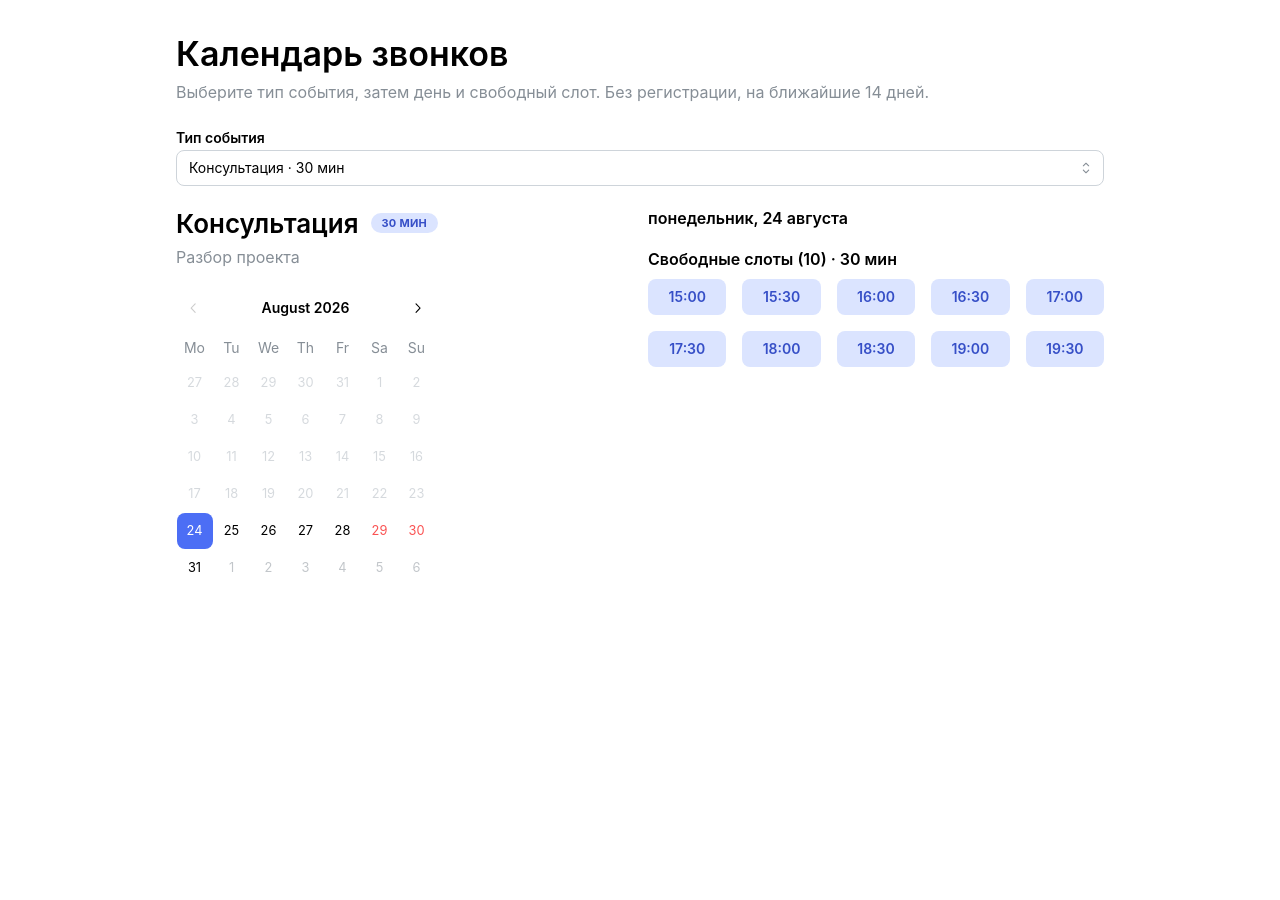
it: BookingPage (гость: тип события → календарь → слоты) › успешное бронирование показывает детали брони
The width and height of the screenshot is (1280, 900).
Expected: the heading "Консультация" is shown, 176,206 -> 358,241
Click the button named "2026-08-25".
click(232, 531)  # box 214,513 -> 250,549
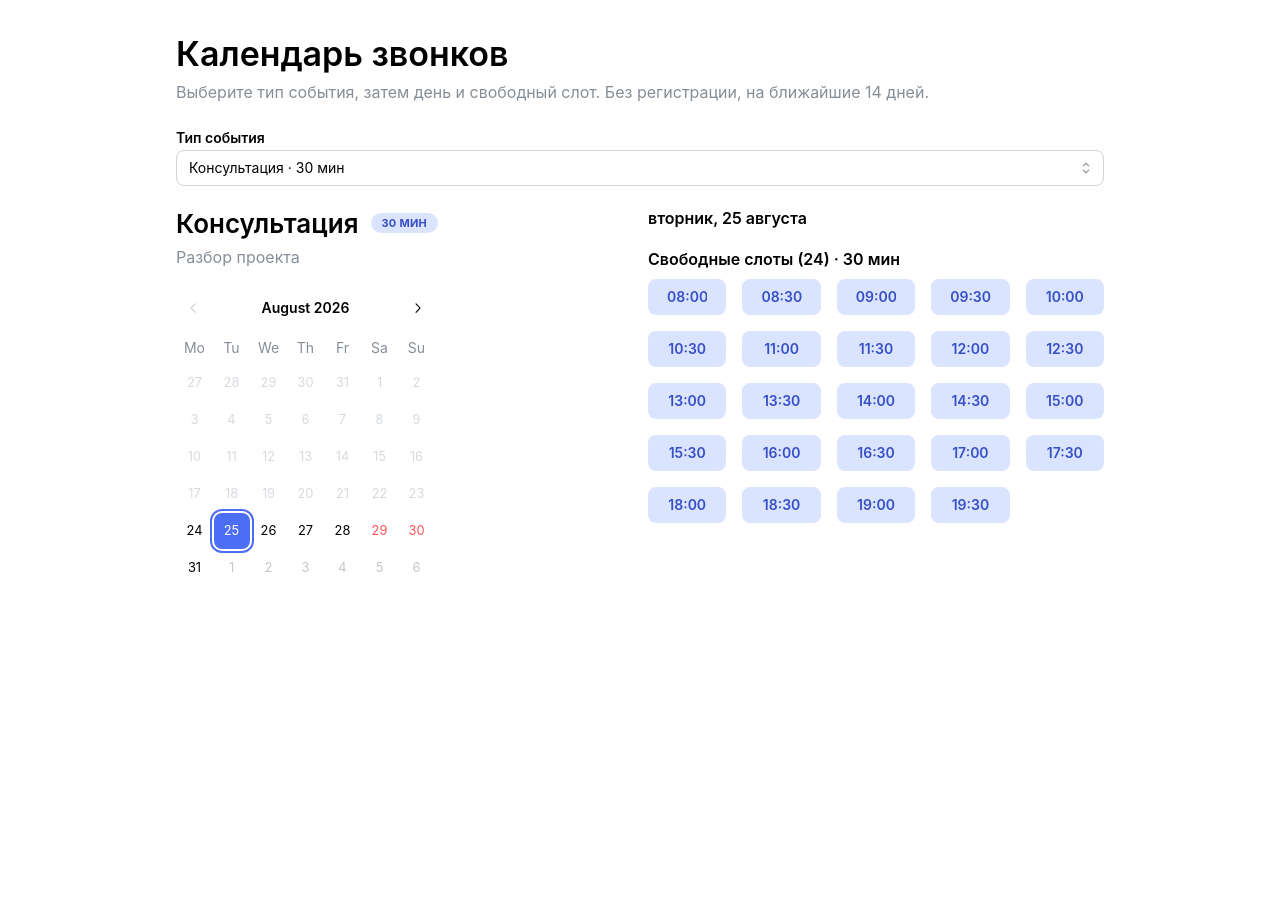
Expected: the text "Свободные слоты (24) · 30 мин" is shown, 648,249 -> 900,269
Click the button "08:00".
click(687, 297)  # box 648,279 -> 726,315
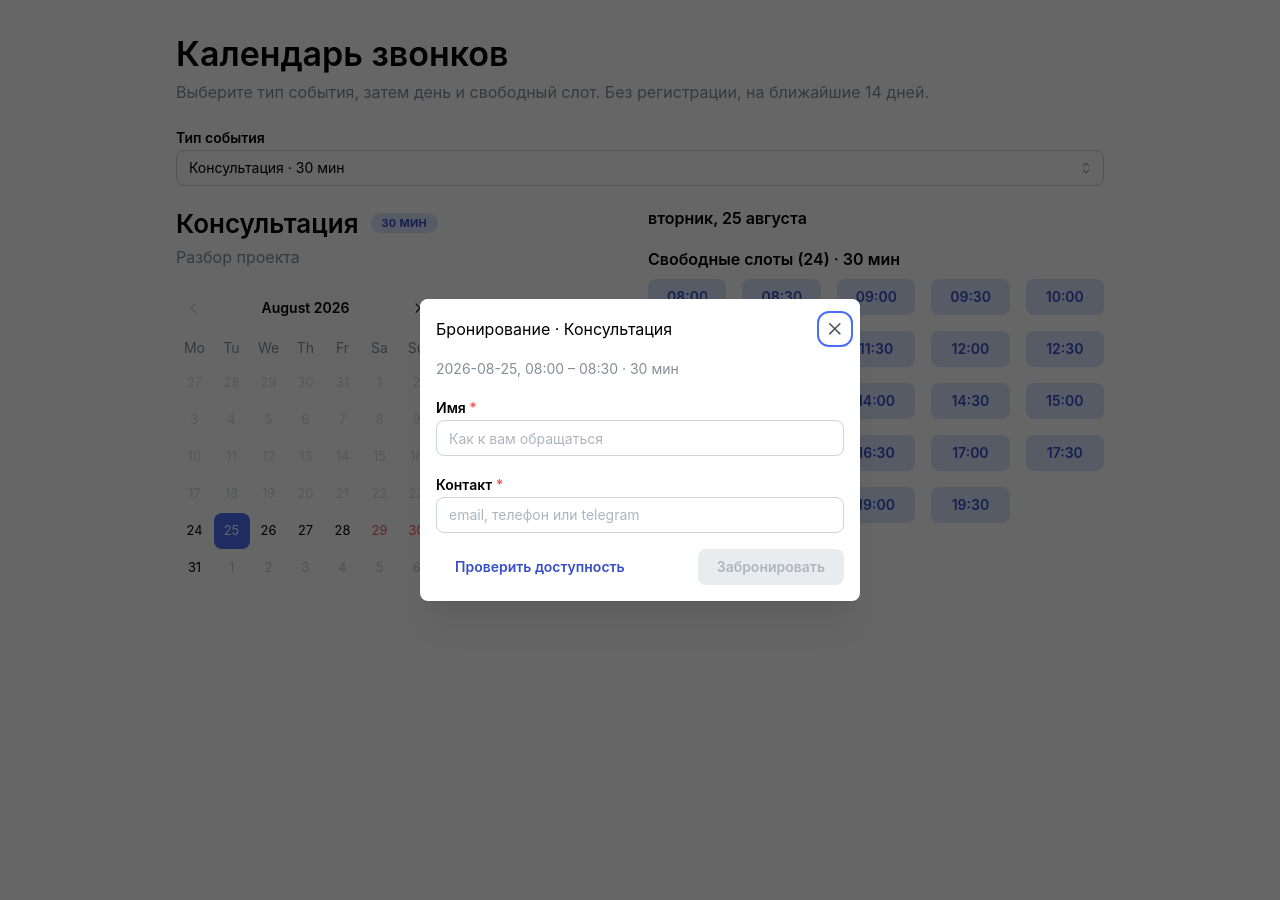
Expected: the field labelled "Имя *" is shown
Type "Иван Петров" into the field labelled "Имя *".
click(640, 438); type("Иван Петров")  # box 436,420 -> 844,456
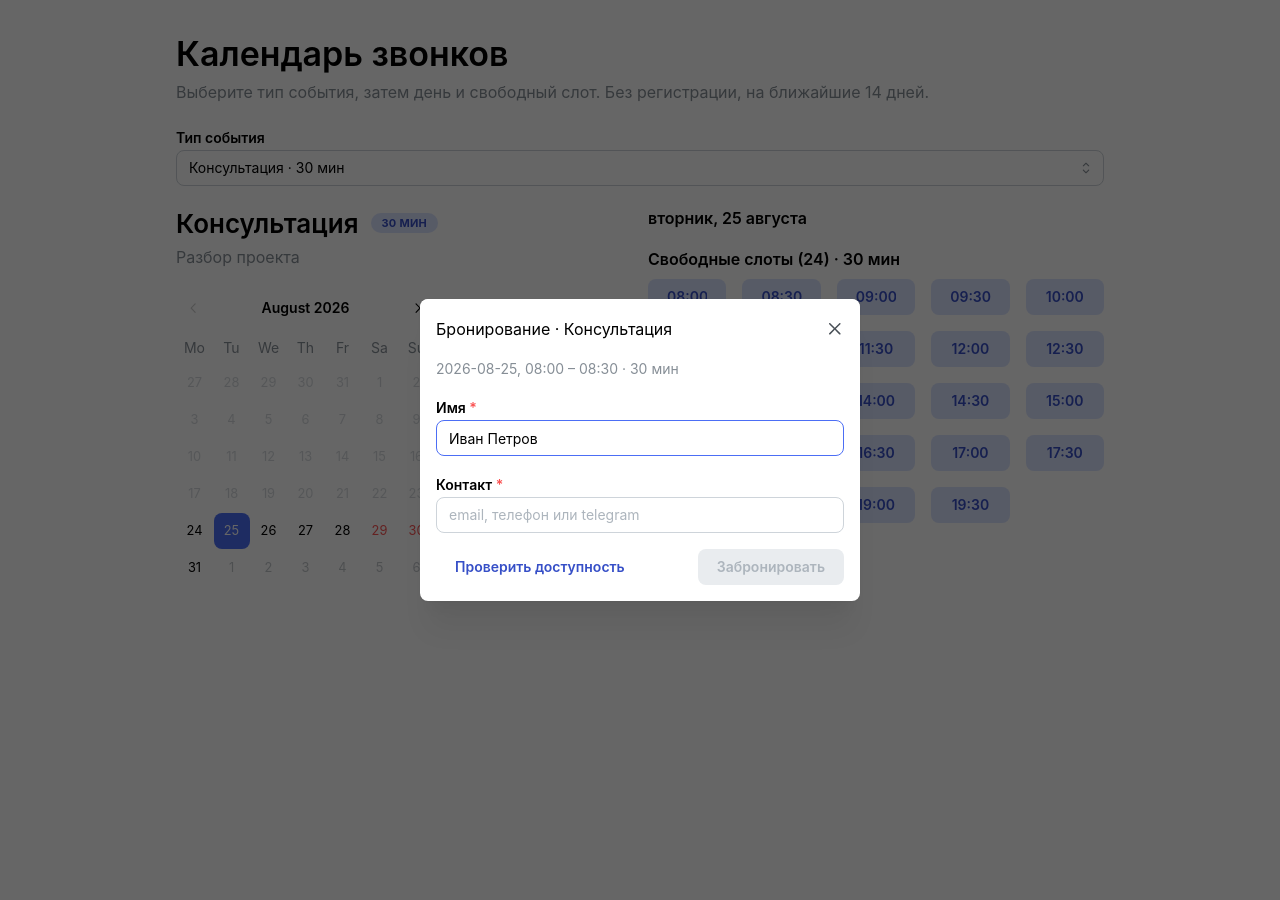
Type "ivan@example.com" into the field labelled "Контакт *".
click(640, 515); type("ivan@example.com")  # box 436,497 -> 844,533
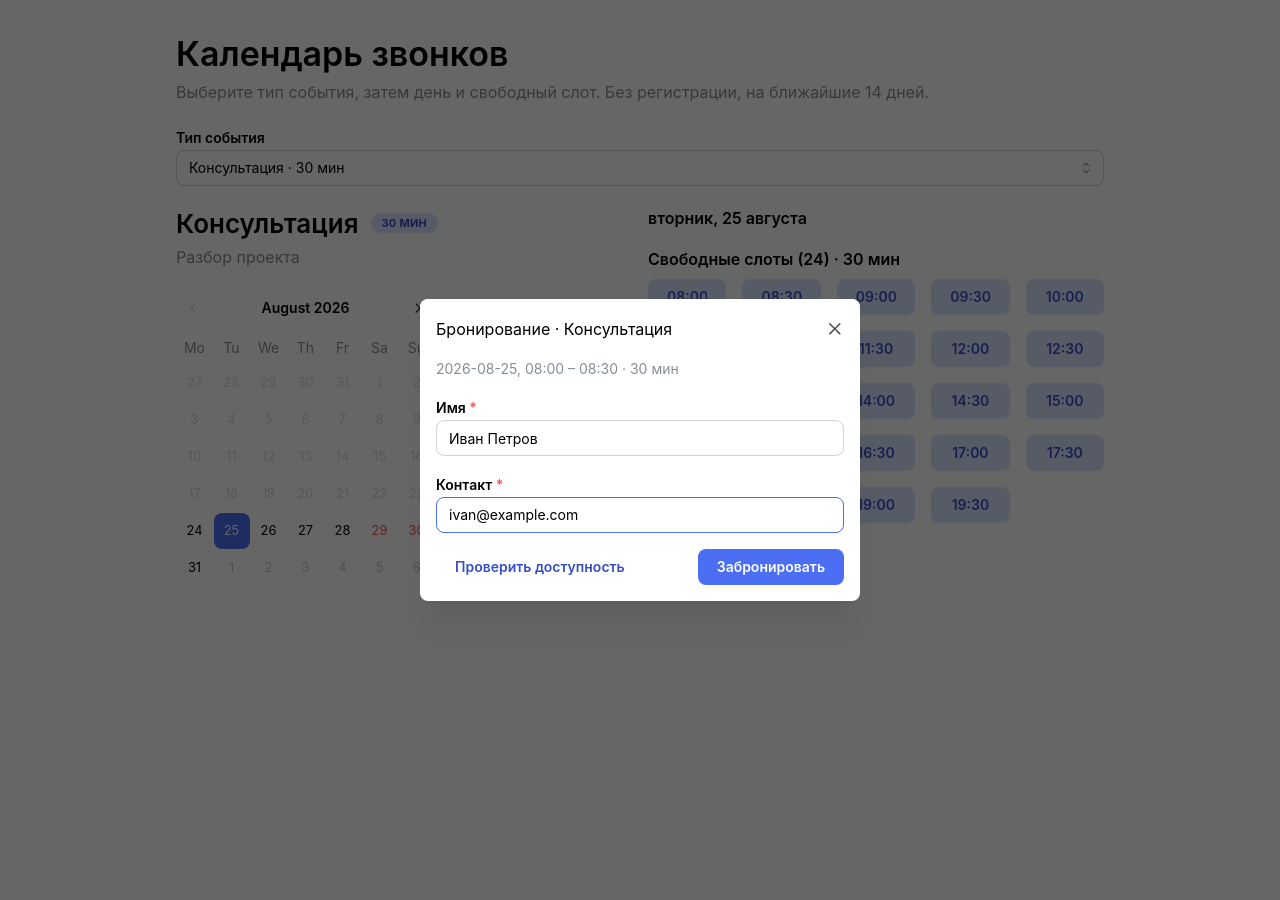
Click the button "Забронировать".
click(771, 567)  # box 698,549 -> 844,585
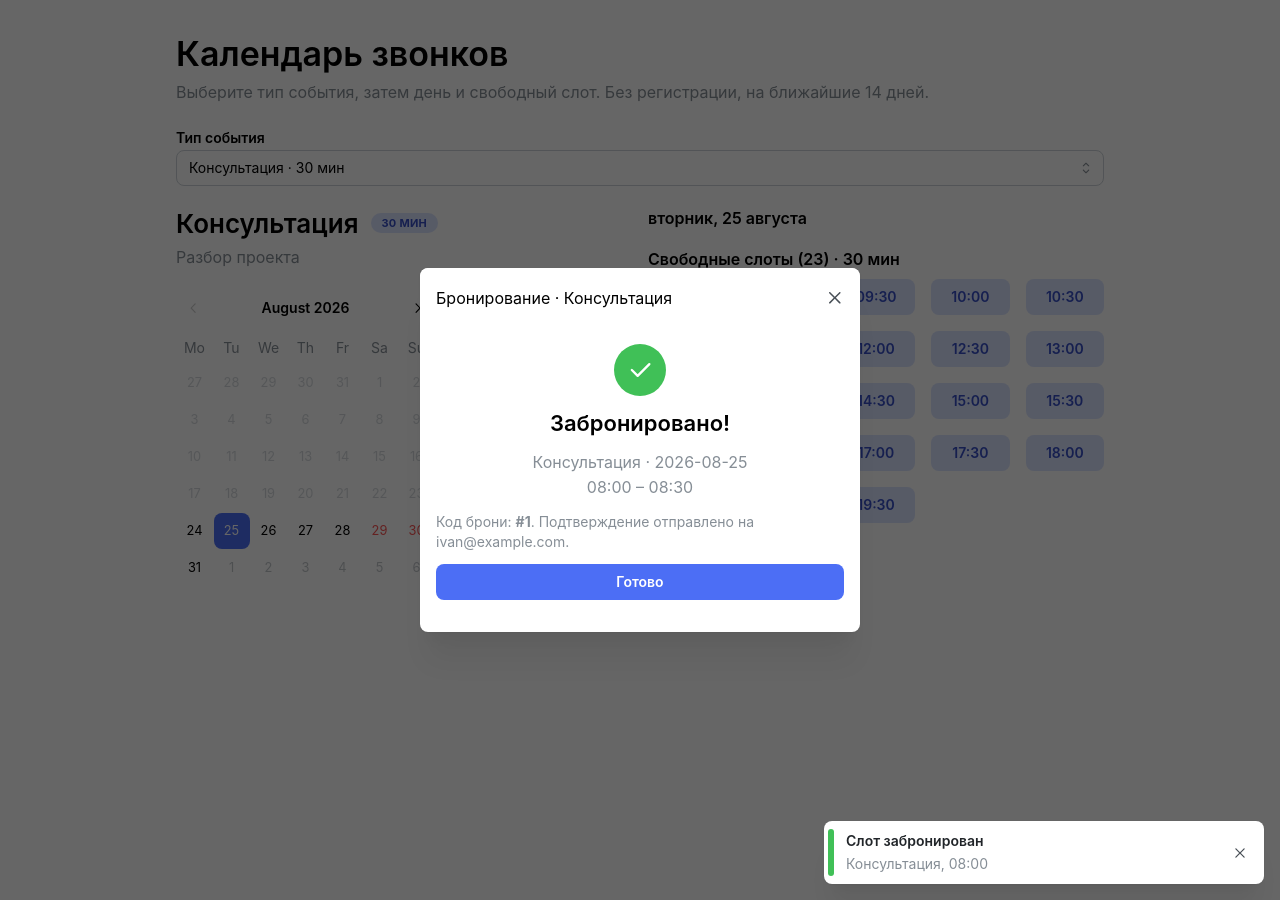
Expected: the heading "Забронировано!" is shown, 550,408 -> 730,438
Expected: the text "#1" is shown, 516,513 -> 531,530
Expected: the text "Код брони: #1. Подтверждение отправлено на ivan@example.com." is shown, 436,513 -> 754,550
